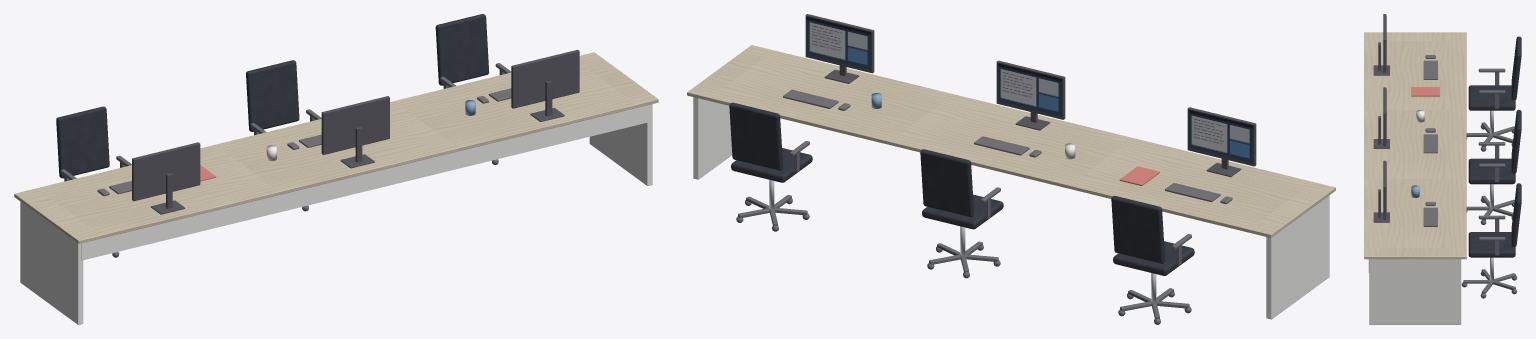
Rendered from oficina_abierta.mesa.fbx.
3 renders of one model, left to right at view 1: azimuth 30°, elevation 25°; view 2: azimuth 150°, elevation 25°; view 3: azimuth 270°, elevation 25°, orthographic. The views are drawn at different scales.
Parts seen in each view (by area): view 1: Cubierta, Faldon, Pata.001, Respaldo.002, Respaldo.001, Respaldo, Monitor.002, Monitor, Monitor.001, Pata; view 2: Cubierta, Pata.001, Respaldo, Respaldo.002, Respaldo.001, Pata, Pantalla, Pantalla.001, Pantalla.002, Asiento.002, Asiento, Asiento.001 (+7 smaller); view 3: Cubierta, Pata, Asiento.001, Asiento.002, Asiento, Respaldo, Respaldo.002, Respaldo.001, Teclado, Teclado.001, Teclado.002, Cuaderno (+9 smaller).
Boxes of the visible parts, bbox=[...] form: Cubierta: bbox=[14, 52, 658, 243]; Faldon: bbox=[81, 104, 650, 260]; Pata.001: bbox=[20, 201, 83, 324]; Respaldo.002: bbox=[56, 106, 109, 178]; Respaldo.001: bbox=[246, 60, 299, 131]; Respaldo: bbox=[435, 14, 489, 85]; Monitor.002: bbox=[132, 142, 200, 201]; Monitor: bbox=[511, 49, 579, 108]; Monitor.001: bbox=[321, 96, 389, 154]; Pata: bbox=[589, 104, 652, 185]; Cubierta: bbox=[687, 45, 1335, 237]; Pata.001: bbox=[1266, 195, 1329, 319]; Respaldo: bbox=[729, 102, 783, 170]; Respaldo.002: bbox=[1111, 195, 1165, 263]; Respaldo.001: bbox=[920, 149, 974, 217]; Pata: bbox=[693, 97, 732, 179]; Pantalla: bbox=[806, 16, 870, 69]; Pantalla.001: bbox=[998, 63, 1061, 116]; Pantalla.002: bbox=[1189, 110, 1252, 162]; Asiento.002: bbox=[1113, 241, 1194, 275]; Asiento: bbox=[731, 148, 812, 182]; Asiento.001: bbox=[922, 194, 1003, 229]; Cubierta: bbox=[1364, 32, 1466, 259]; Pata: bbox=[1369, 259, 1461, 324]; Asiento.001: bbox=[1468, 158, 1515, 184]; Asiento.002: bbox=[1468, 85, 1515, 110]; Asiento: bbox=[1468, 232, 1515, 257]; Respaldo: bbox=[1511, 183, 1521, 246]; Respaldo.002: bbox=[1511, 36, 1521, 100]; Respaldo.001: bbox=[1511, 110, 1521, 173]; Teclado: bbox=[1423, 207, 1437, 226]; Teclado.001: bbox=[1423, 134, 1437, 153]; Teclado.002: bbox=[1423, 60, 1437, 79]; Cuaderno: bbox=[1411, 87, 1439, 96].
Size of the model in its own units: 5.2 by 1.23 by 1.54.
26 materials, 7 textured.
